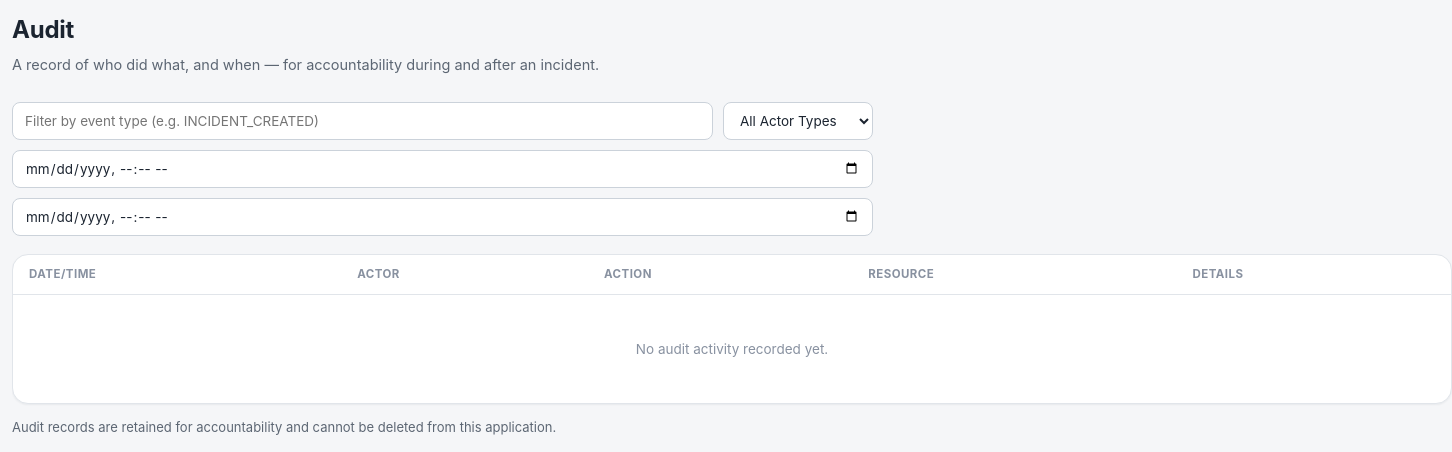
AuditPage › re-fetches when the event type filter changes
The image size is (1452, 452).
Expected: the text "No audit activity recorded yet." is shown, [636,341,828,357]
Type "LOGIN_SUCCESS" into the field with placeholder "Filter by event type (e.g. INCIDENT_CREATED)" at (362, 121), box [12,102,713,140]
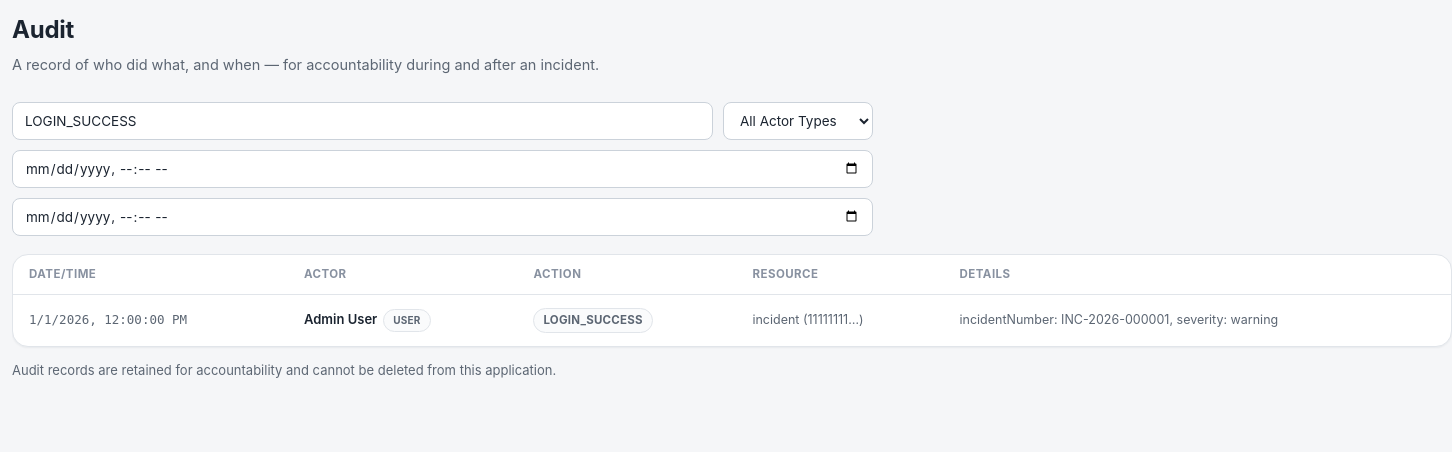
Expected: the text "LOGIN_SUCCESS" is shown, [534,308,653,333]
